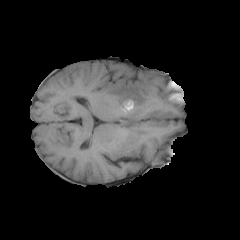glioma: (106, 68, 149, 113)
